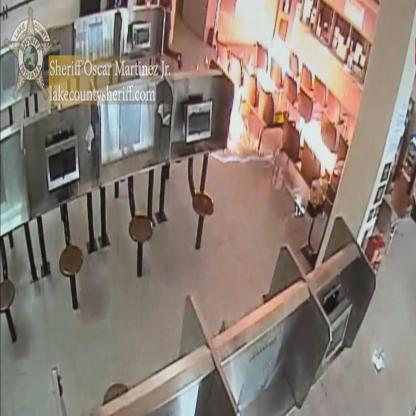fire: (209, 79, 264, 163), (296, 117, 338, 176)
